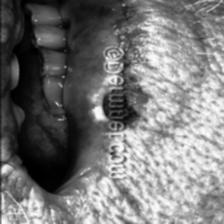Potentially Malignant Skin Tumors: (120, 84, 148, 128), (93, 91, 110, 121)
